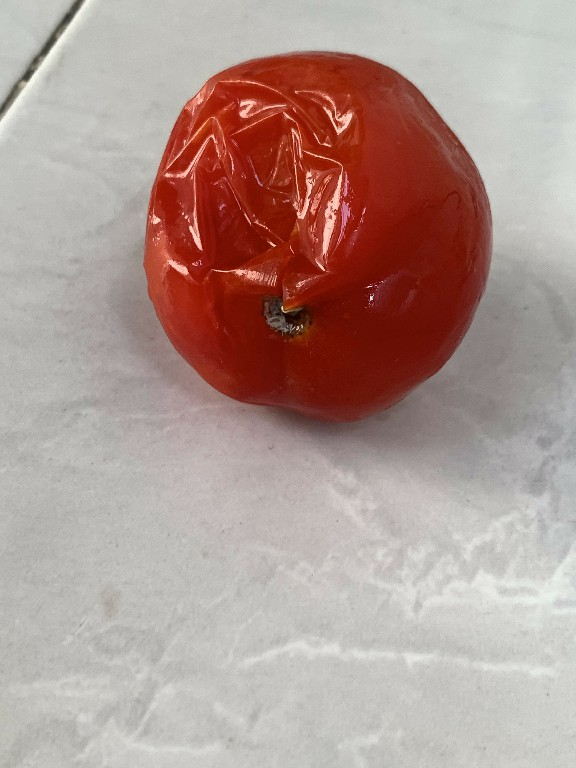NG: (132, 47, 508, 431)
